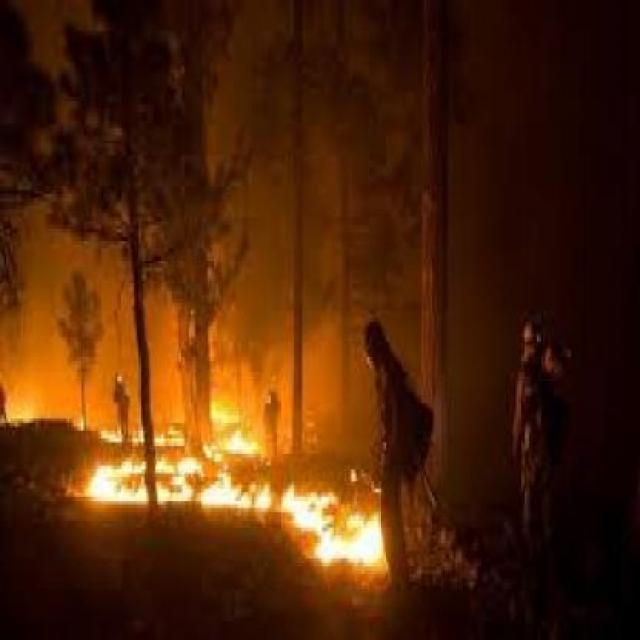Fire: (63, 384, 395, 532)
